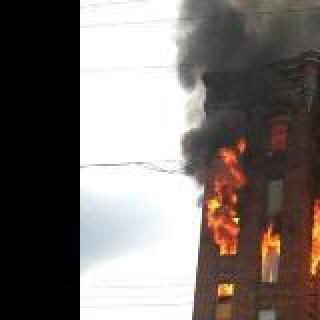fire: (154, 2, 320, 172), (196, 146, 320, 300)
